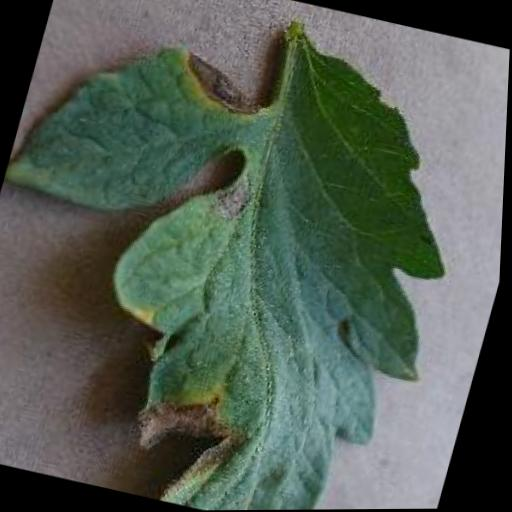Early Blight: (0, 12, 494, 512)
